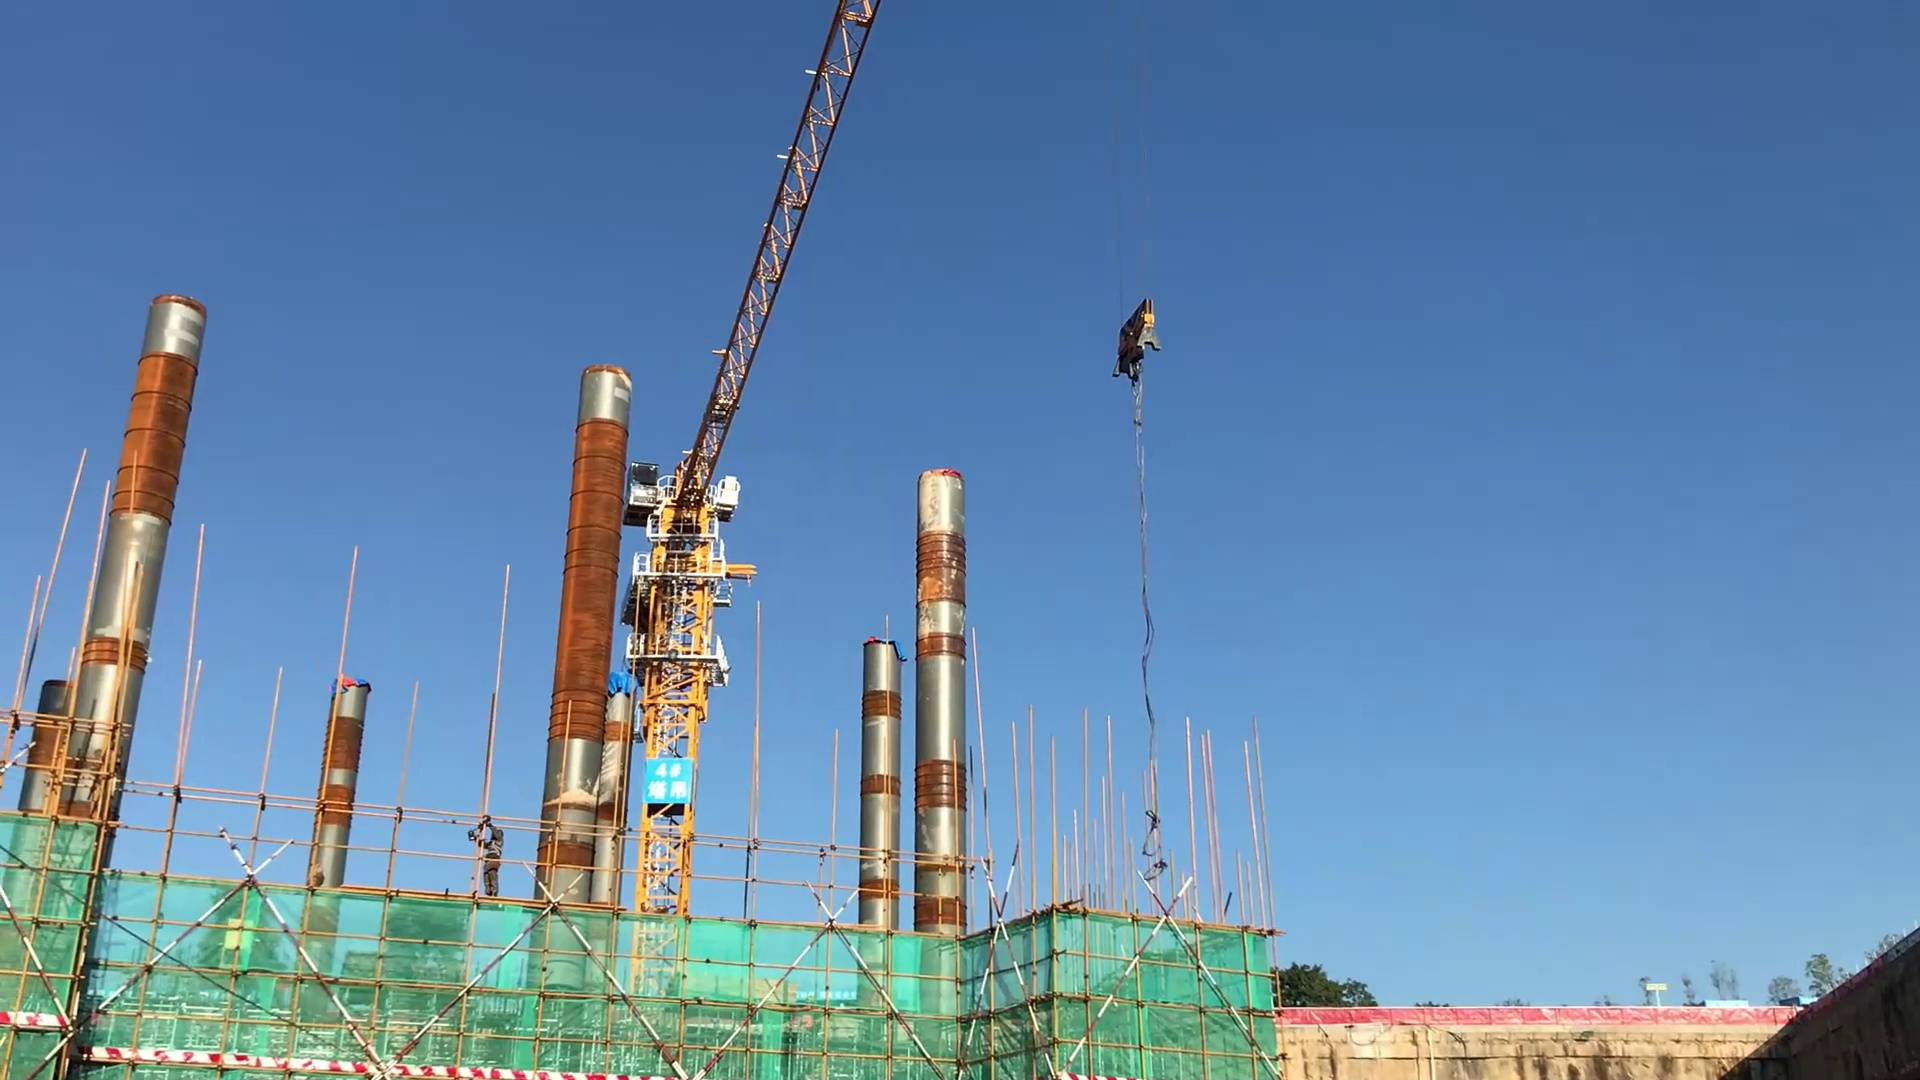hook: (1113, 300, 1158, 379)
person: (467, 808, 516, 905)
vest: (483, 837, 507, 859)
